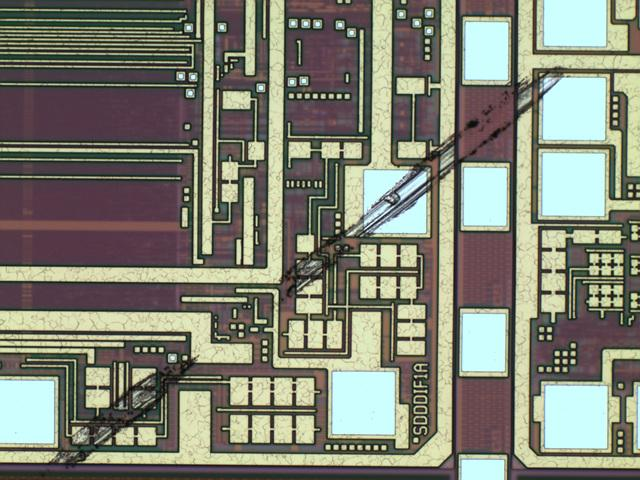SCRATCH: (32, 46, 577, 480)
